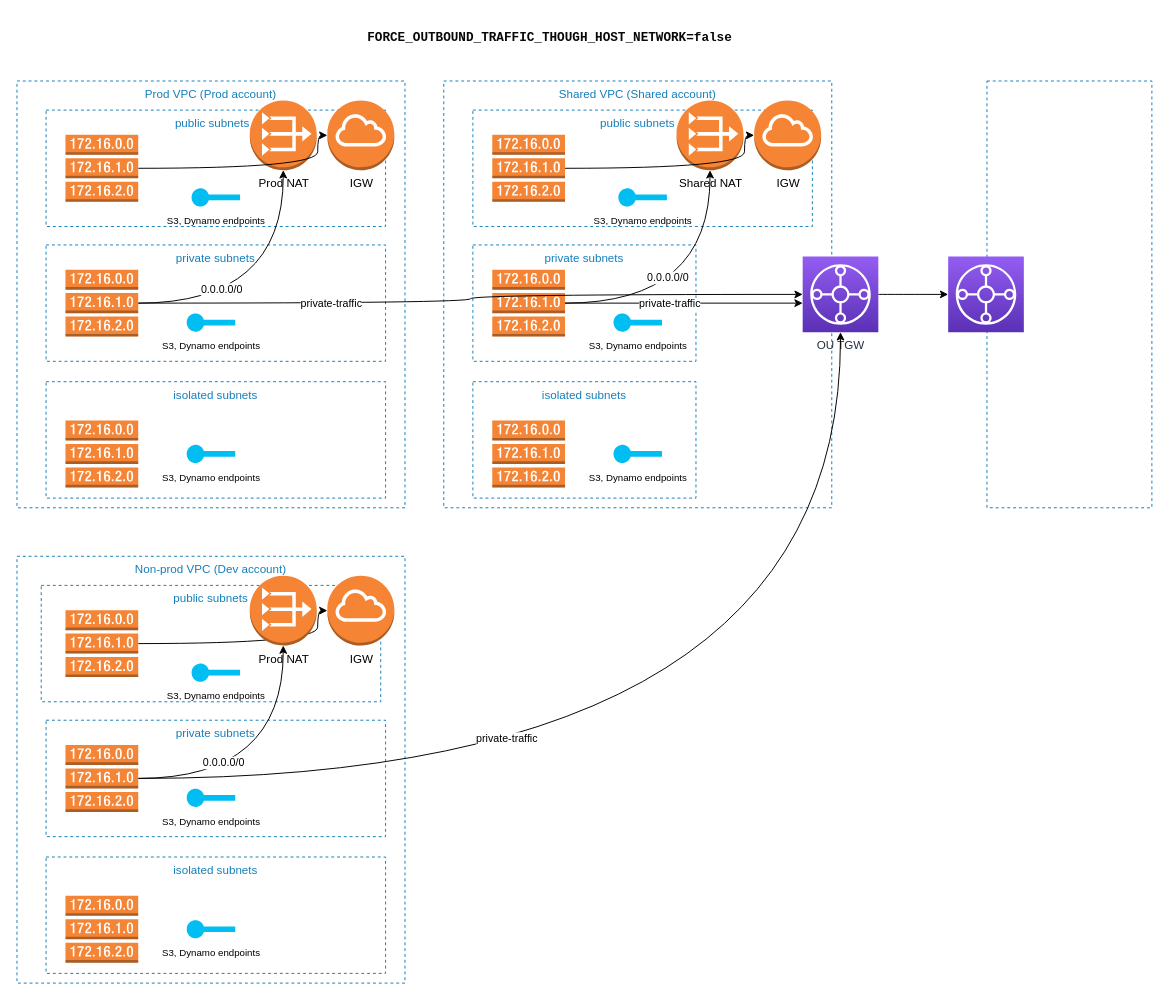
Image size: 1174x1000. Some labels were removed from this diagram. The box of each missing label's shape, as (x1, y1, x2, y2) in pixels:
Host VPC (Host network account) managed outside of OU: (986, 80, 1152, 508)
Shared Host TGW: (947, 256, 1024, 332)
